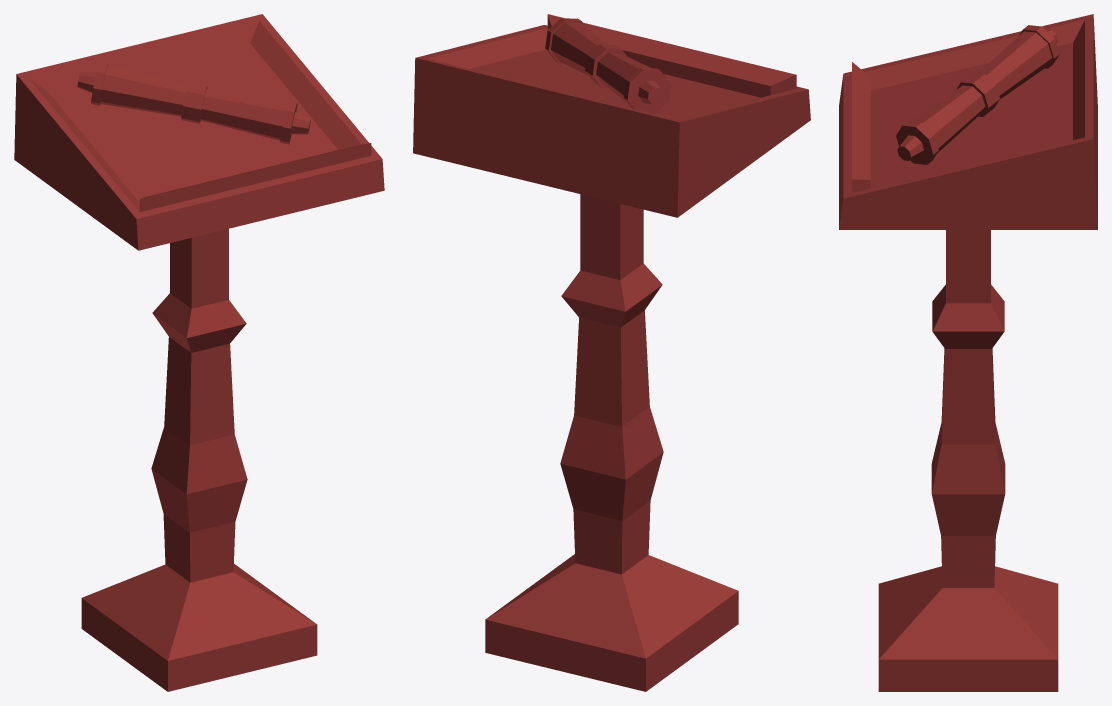
Rendered from Book Stand.002.fbx.
3 renders of one model, left to right at view 1: azimuth 30°, elevation 25°; view 2: azimuth 150°, elevation 25°; view 3: azimuth 270°, elevation 25°, orthographic. The views are drawn at different scales.
Parts seen in each view (by area): view 1: Book Stand.002; view 2: Book Stand.002; view 3: Book Stand.002.
Part boxes in pixels (box(x1,y1,x2,y2)): Book Stand.002: box(14, 14, 384, 691); Book Stand.002: box(413, 14, 810, 691); Book Stand.002: box(839, 14, 1097, 691).
Bounding box in the file's own units: 70.48 × 156 × 61.57.
